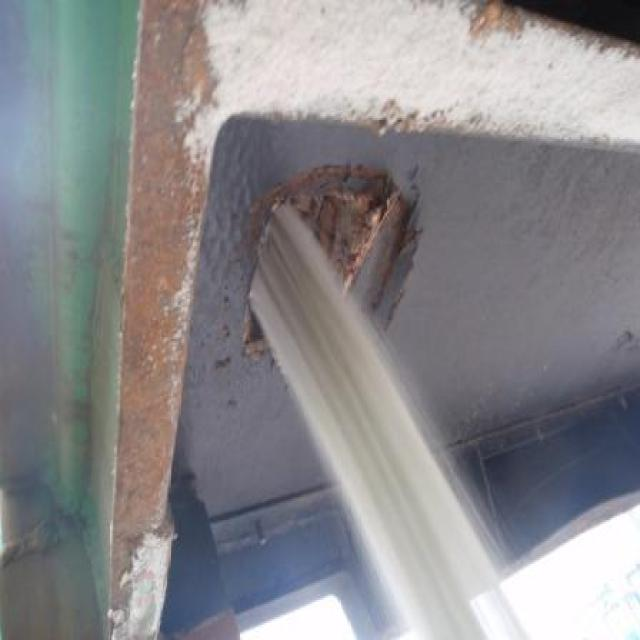hole: (236, 165, 423, 360)
